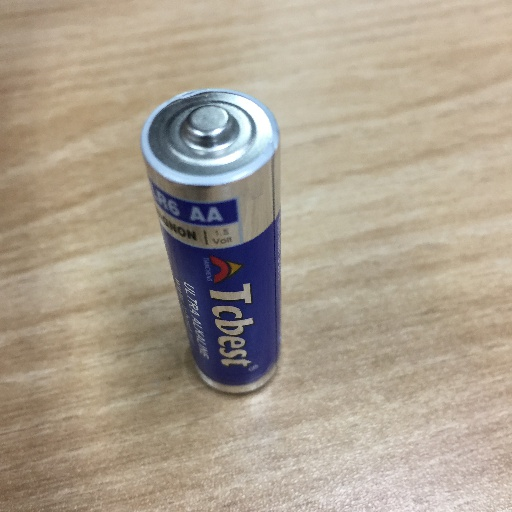Battery_0: (130, 69, 296, 411)
